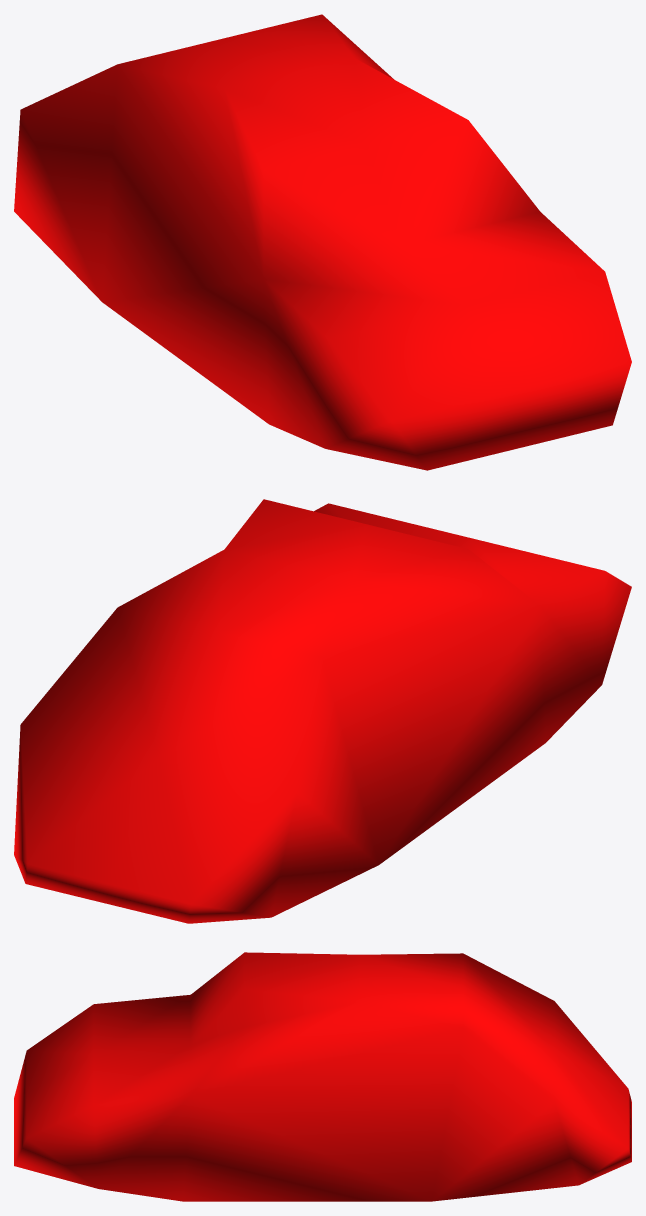
Rendered from car_0015_collider.fbx.
The picture shows the model from 3 angles, top to bottom: view 1: azimuth 30°, elevation 25°; view 2: azimuth 150°, elevation 25°; view 3: azimuth 270°, elevation 25°; orthographic projection. The views are drawn at different scales.
Parts seen in each view (by area): view 1: Mesh; view 2: Mesh; view 3: Mesh.
Boxes of the visible parts, x1,y1,x2,y2 form: Mesh: [14, 14, 631, 470]; Mesh: [14, 499, 631, 923]; Mesh: [14, 952, 631, 1201].
Bounding box in the file's own units: 153 × 122 × 396.
